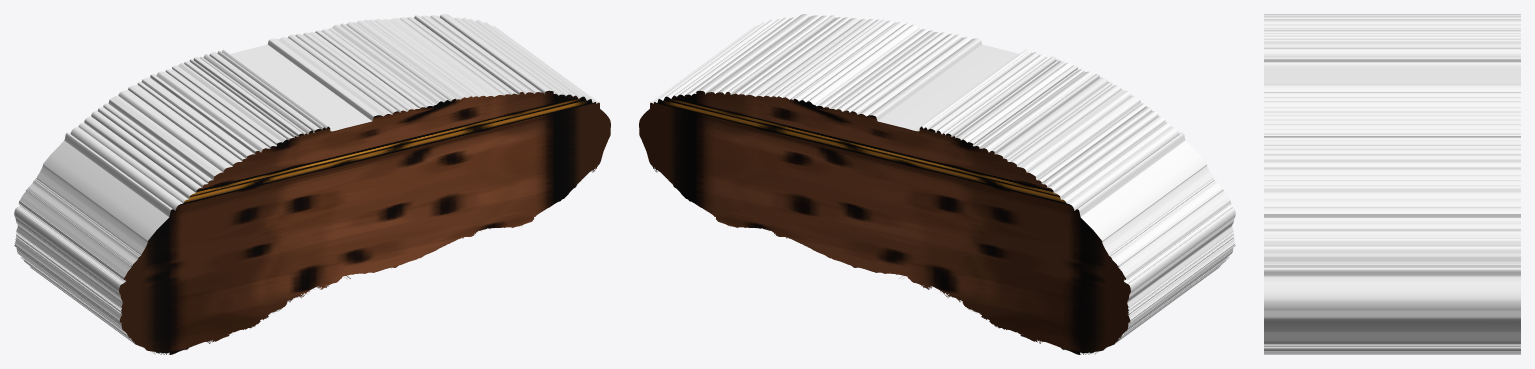
The model's file is Praia Vermelha.dae.
3 renders of one model, left to right at view 1: azimuth 30°, elevation 25°; view 2: azimuth 150°, elevation 25°; view 3: azimuth 270°, elevation 25°, orthographic. The views are drawn at different scales.
Visible parts, largest first — view 1: Camada_1; view 2: Camada_1; view 3: Camada_1.
Boxes of the visible parts, x1=… form: Camada_1: x1=14, y1=14, x2=610, y2=354; Camada_1: x1=639, y1=14, x2=1235, y2=354; Camada_1: x1=1264, y1=14, x2=1520, y2=354.
Size of the model in its own units: 1397 by 516 by 516.
